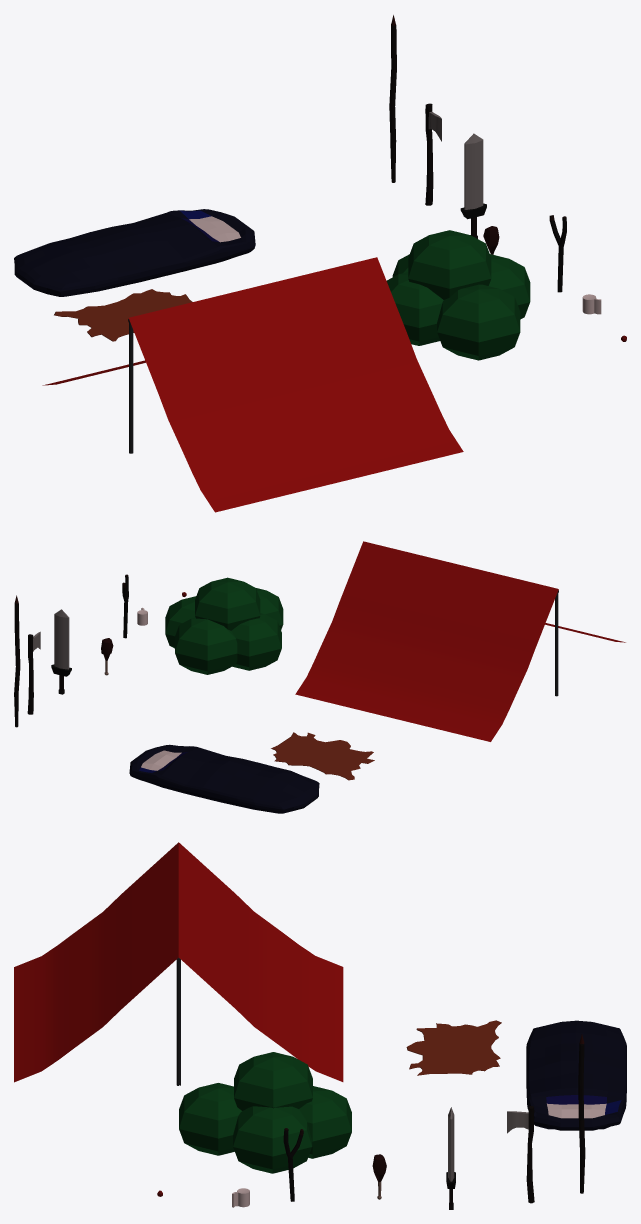
Rendered from alles in kleur.fbx.
The picture shows the model from 3 angles, top to bottom: view 1: azimuth 30°, elevation 25°; view 2: azimuth 150°, elevation 25°; view 3: azimuth 270°, elevation 25°; orthographic projection. The views are drawn at different scales.
Parts seen in each view (by area): view 1: polySurface2, low_poly_bush:pSphere6, low_poly_slaapzak:pCube1, low_poly_leather:polySurface1, sword_low_poly:pCube2, low_poly_spear:pCube1, low_poly_axe:pCube1; view 2: polySurface2, low_poly_bush:pSphere6, low_poly_slaapzak:pCube1, low_poly_leather:polySurface1, sword_low_poly:pCube2, low_poly_spear:pCube1, low_poly_axe:pCube1; view 3: polySurface2, low_poly_bush:pSphere6, low_poly_slaapzak:pCube1, low_poly_leather:polySurface1, low_poly_axe:pCube1, low_poly_spear:pCube1, sword_low_poly:pCube2, low_poly_stick:pCube1.
Part boxes in pixels (<box>): polySurface2: <box>42,257,463,512</box>; low_poly_bush:pSphere6: <box>386,230,530,360</box>; low_poly_slaapzak:pCube1: <box>14,209,255,296</box>; low_poly_leather:polySurface1: <box>54,289,192,341</box>; sword_low_poly:pCube2: <box>460,133,486,238</box>; low_poly_spear:pCube1: <box>389,15,396,182</box>; low_poly_axe:pCube1: <box>425,103,441,205</box>; polySurface2: <box>295,541,625,741</box>; low_poly_bush:pSphere6: <box>165,577,283,674</box>; low_poly_slaapzak:pCube1: <box>129,744,319,813</box>; low_poly_leather:polySurface1: <box>271,732,374,780</box>; sword_low_poly:pCube2: <box>51,609,71,694</box>; low_poly_spear:pCube1: <box>14,595,20,727</box>; low_poly_axe:pCube1: <box>27,631,40,714</box>; polySurface2: <box>14,842,343,1085</box>; low_poly_bush:pSphere6: <box>179,1052,351,1173</box>; low_poly_slaapzak:pCube1: <box>526,1020,626,1130</box>; low_poly_leather:polySurface1: <box>406,1020,501,1075</box>; low_poly_axe:pCube1: <box>507,1106,534,1203</box>; low_poly_spear:pCube1: <box>578,1034,585,1193</box>; sword_low_poly:pCube2: <box>446,1107,455,1209</box>; low_poly_stick:pCube1: <box>283,1128,303,1201</box>.
Size of the model in its own units: 301 by 102 by 335.
